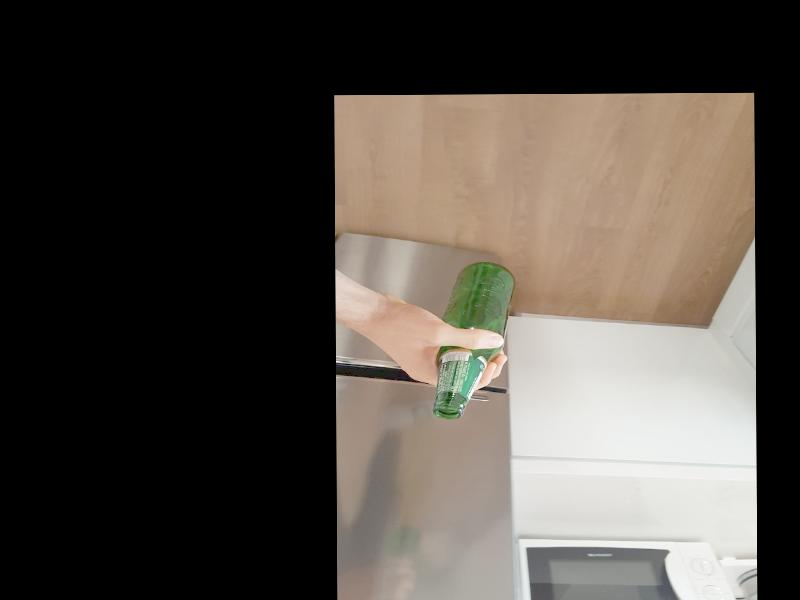Beer: (432, 261, 514, 419)
